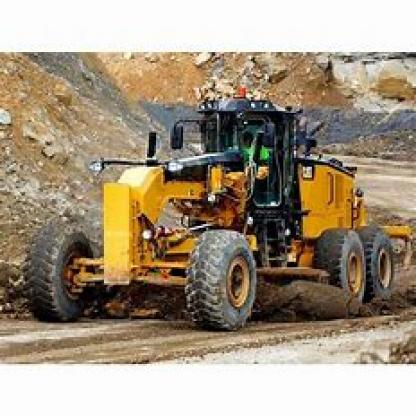bull_dozer/loader/grader: (29, 92, 400, 342)
